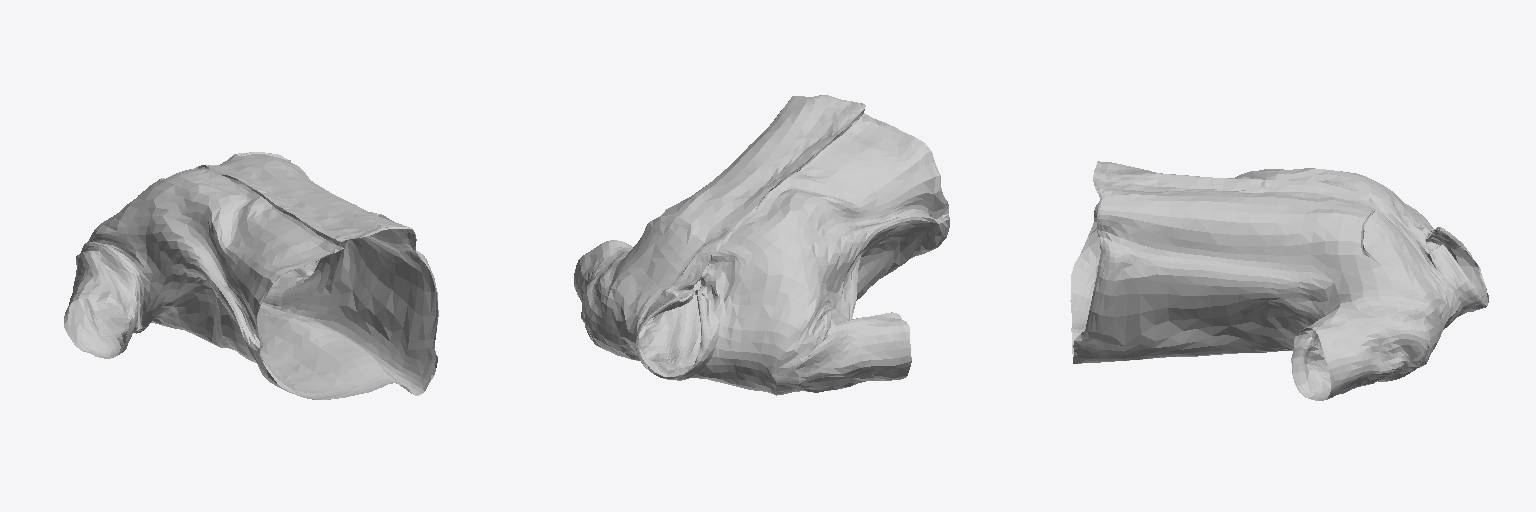
File: yifu.obj
The picture shows the model from 3 angles: view 1: azimuth 30°, elevation 25°; view 2: azimuth 150°, elevation 25°; view 3: azimuth 270°, elevation 25°; orthographic projection.
Parts seen in each view (by area): view 1: Lino; view 2: Lino; view 3: Lino.
Boxes of the visible parts, x1=… form: Lino: x1=64, y1=152, x2=438, y2=399; Lino: x1=574, y1=95, x2=949, y2=395; Lino: x1=1070, y1=161, x2=1488, y2=400.
Bounding box in the file's own units: 66.94 × 32.38 × 72.25.